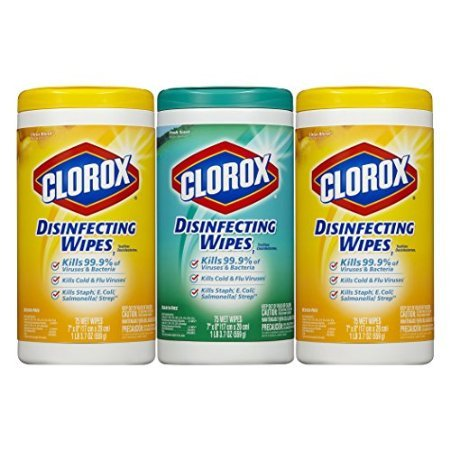Wipes: (11, 82, 157, 368), (155, 82, 298, 368), (294, 83, 437, 367)
